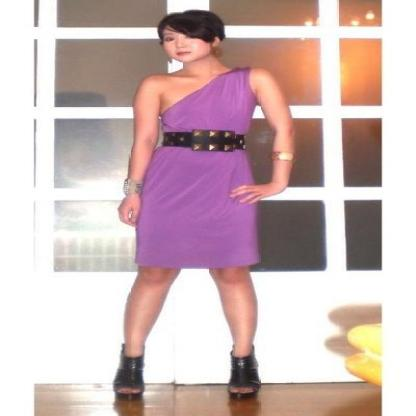dress: (124, 68, 261, 270)
shoe: (113, 344, 261, 415)
